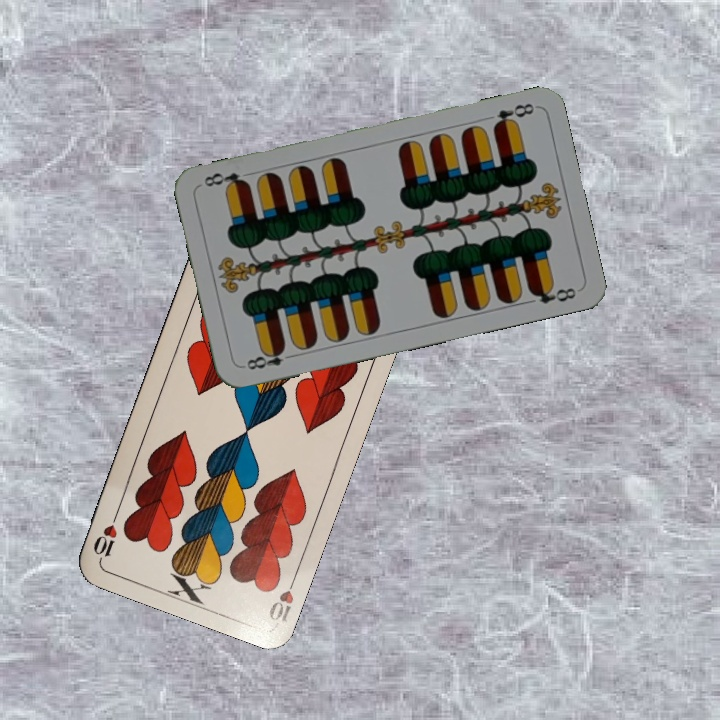E8: (242, 343, 298, 372), (489, 99, 537, 131)
H10: (264, 569, 301, 625)
